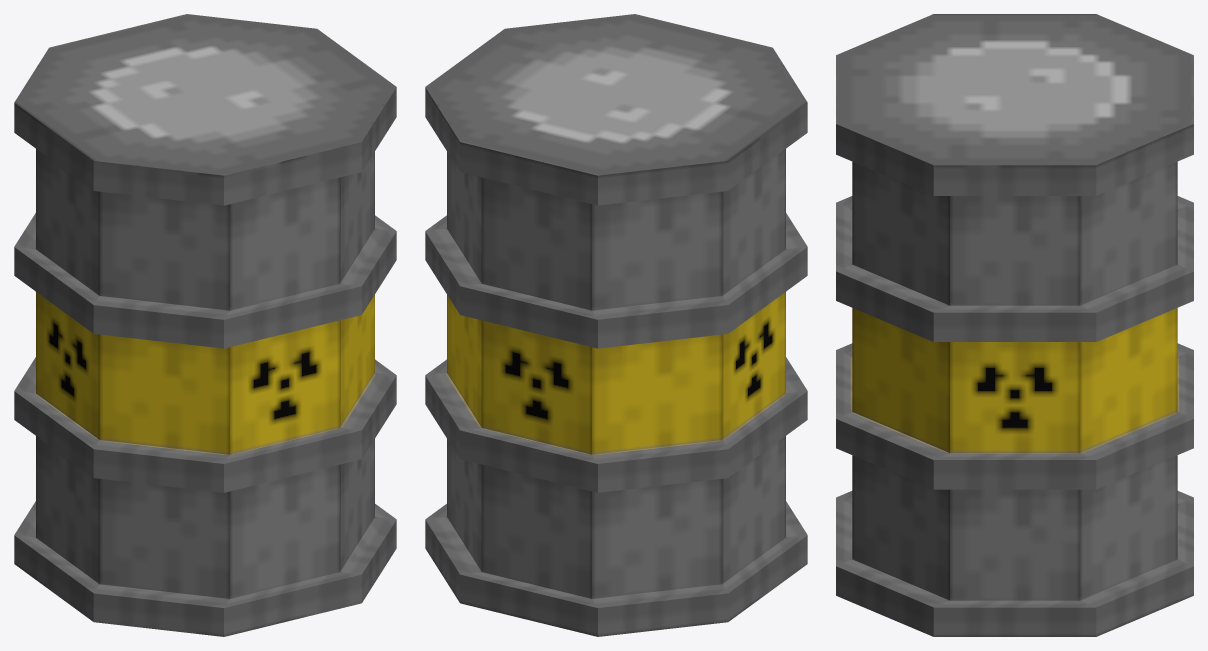
File: machine_storage_drum.obj
3 views of the same model, side by side, from view 1: azimuth 30°, elevation 25°; view 2: azimuth 150°, elevation 25°; view 3: azimuth 270°, elevation 25° (orthographic). The views are drawn at different scales.
Visible parts, largest first — view 1: Cube_Cube.001; view 2: Cube_Cube.001; view 3: Cube_Cube.001.
Part boxes in pixels (box(x1,y1,x2,y2)): Cube_Cube.001: box(14, 14, 396, 636); Cube_Cube.001: box(425, 14, 807, 636); Cube_Cube.001: box(836, 14, 1193, 636).
Bounding box in the file's own units: 0.6875 × 1 × 0.6875.
